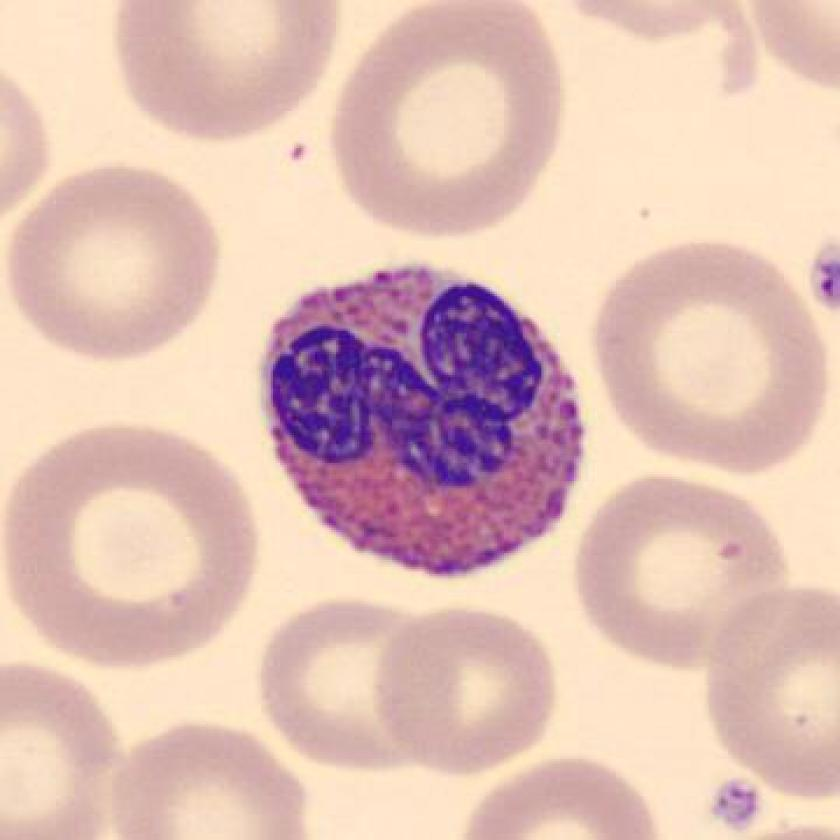eosinophil: (241, 244, 603, 591)
